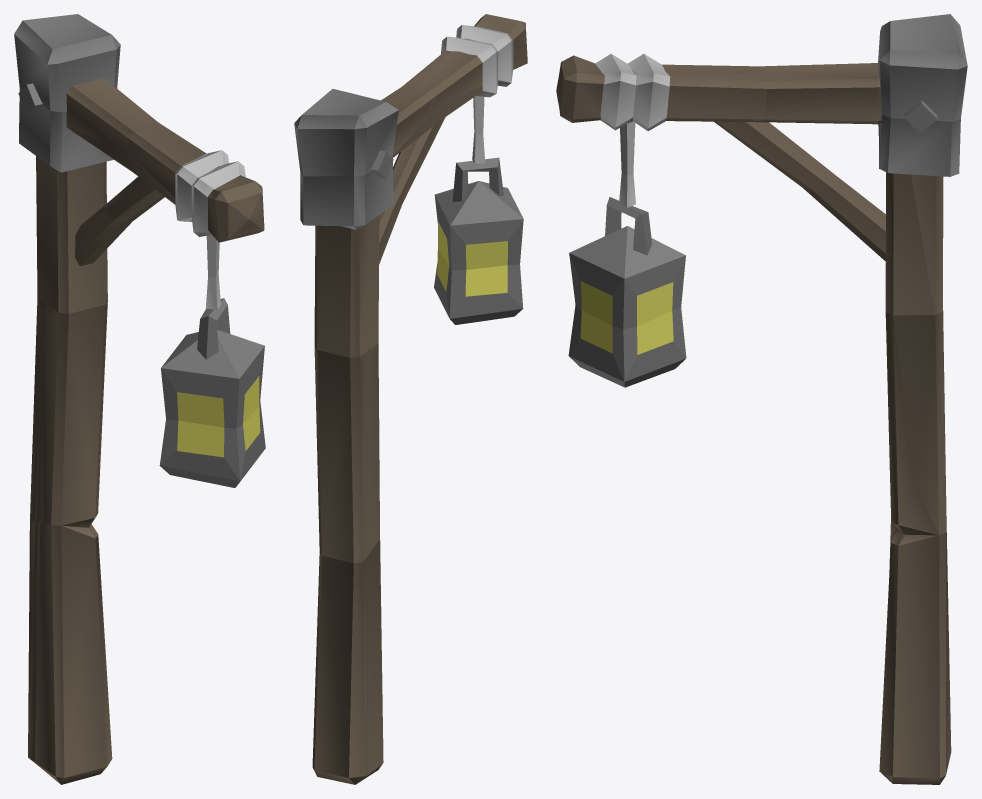
The model's file is lantern.fbx.
3 views of the same model, side by side, from view 1: azimuth 30°, elevation 25°; view 2: azimuth 150°, elevation 25°; view 3: azimuth 270°, elevation 25° (orthographic). The views are drawn at different scales.
Visible parts, largest first — view 1: lantern; view 2: lantern; view 3: lantern.
Boxes of the visible parts, <box> form: lantern: <box>14,14,265,784</box>; lantern: <box>294,14,527,784</box>; lantern: <box>556,14,967,784</box>.
Size of the model in its own units: 41.09 by 286 by 143.
